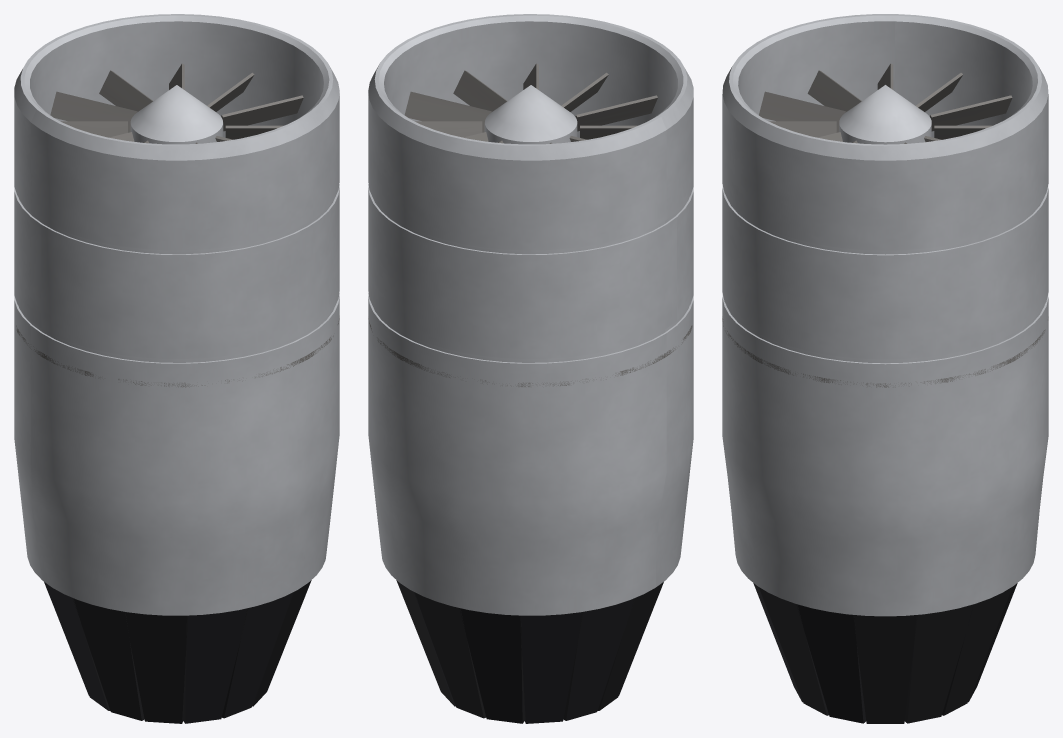
The model's file is ax_aero_29_jetj_turbojet_s.glb.
The picture shows the model from 3 angles, left to right: view 1: azimuth 30°, elevation 25°; view 2: azimuth 150°, elevation 25°; view 3: azimuth 270°, elevation 25°; orthographic projection.
Parts seen in each view (by area): view 1: nacelle, nozzle_petals, fan_blades, spinner, rear_frame; view 2: nacelle, nozzle_petals, fan_blades, spinner, rear_frame; view 3: nacelle, nozzle_petals, fan_blades, spinner, rear_frame.
Part boxes in pixels (box(x1,y1,x2,y2)): nacelle: box(14, 14, 339, 615); nozzle_petals: box(44, 580, 311, 723); fan_blades: box(50, 63, 303, 143); spinner: box(130, 85, 223, 144); rear_frame: box(16, 315, 339, 387); nacelle: box(368, 14, 693, 615); nozzle_petals: box(396, 580, 663, 723); fan_blades: box(404, 63, 657, 143); spinner: box(484, 85, 577, 144); rear_frame: box(368, 318, 692, 386); nacelle: box(722, 14, 1048, 616); nozzle_petals: box(753, 583, 1017, 723); fan_blades: box(759, 63, 1012, 143); spinner: box(839, 85, 931, 144); rear_frame: box(722, 316, 1048, 387).
Bounding box in the file's own units: 1.25 × 2.56 × 1.25.
Materials: 3 (2 with a texture image).
